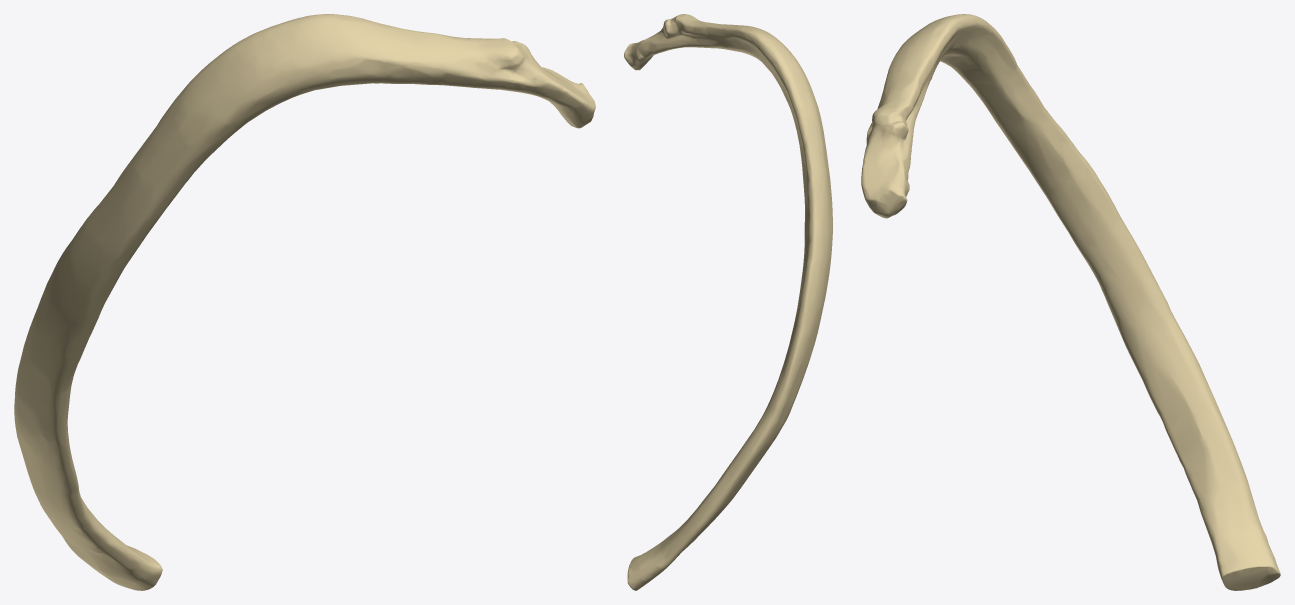
The picture shows the model from 3 angles, left to right: view 1: azimuth 30°, elevation 25°; view 2: azimuth 150°, elevation 25°; view 3: azimuth 270°, elevation 25°; orthographic projection. The views are drawn at different scales.
Parts seen in each view (by area): view 1: 右侧第五肋; view 2: 右侧第五肋; view 3: 右侧第五肋.
Part boxes in pixels (bbox=[...]): 右侧第五肋: bbox=[14, 14, 595, 590]; 右侧第五肋: bbox=[624, 14, 832, 590]; 右侧第五肋: bbox=[861, 14, 1280, 590].
Size of the model in its own units: 0.1706 by 0.279 by 0.1856.
